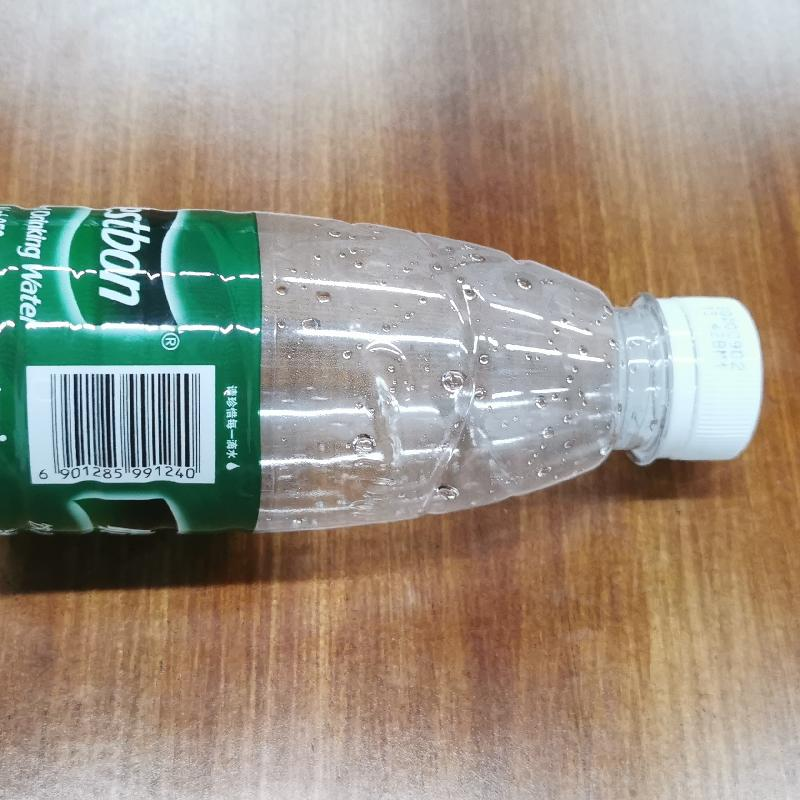bottles: (1, 193, 766, 545)
